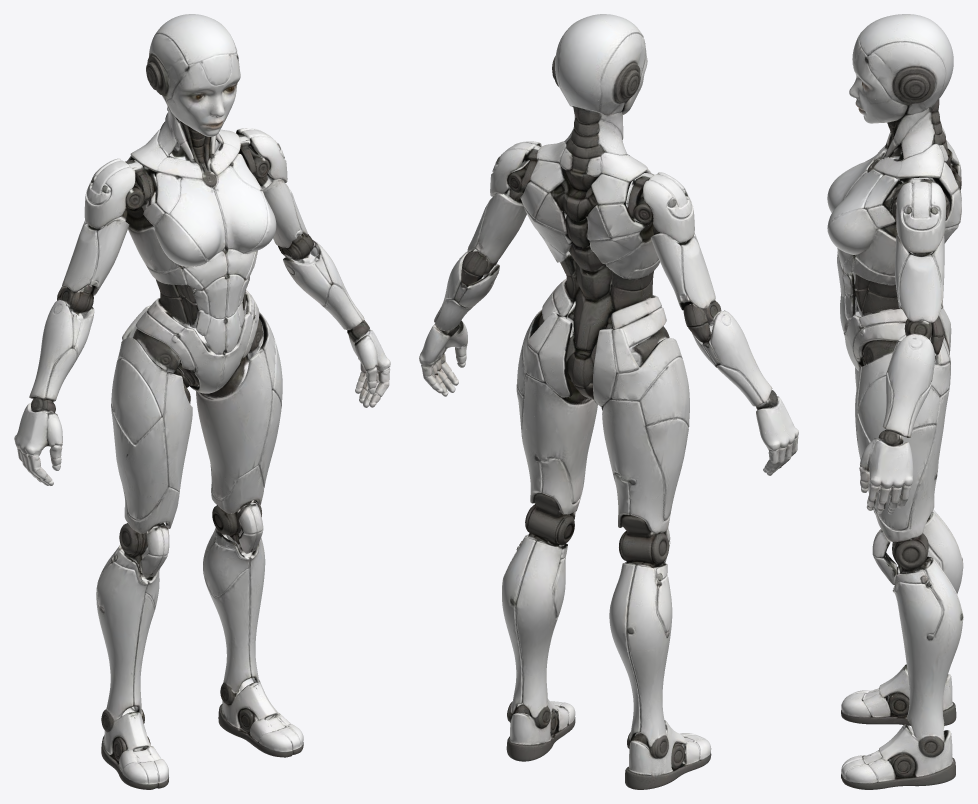
Rendered from sophia.glb.
3 views of the same model, side by side, from view 1: azimuth 30°, elevation 25°; view 2: azimuth 150°, elevation 25°; view 3: azimuth 270°, elevation 25° (orthographic).
Visible parts, largest first — view 1: android; view 2: android; view 3: android.
Part boxes in pixels (box(x1,y1,x2,y2)): android: box(14, 14, 390, 789); android: box(419, 14, 798, 789); android: box(827, 14, 963, 789).
Bounding box in the file's own units: 0.9135 × 1.75 × 0.2956.
1 material, 1 textured.
